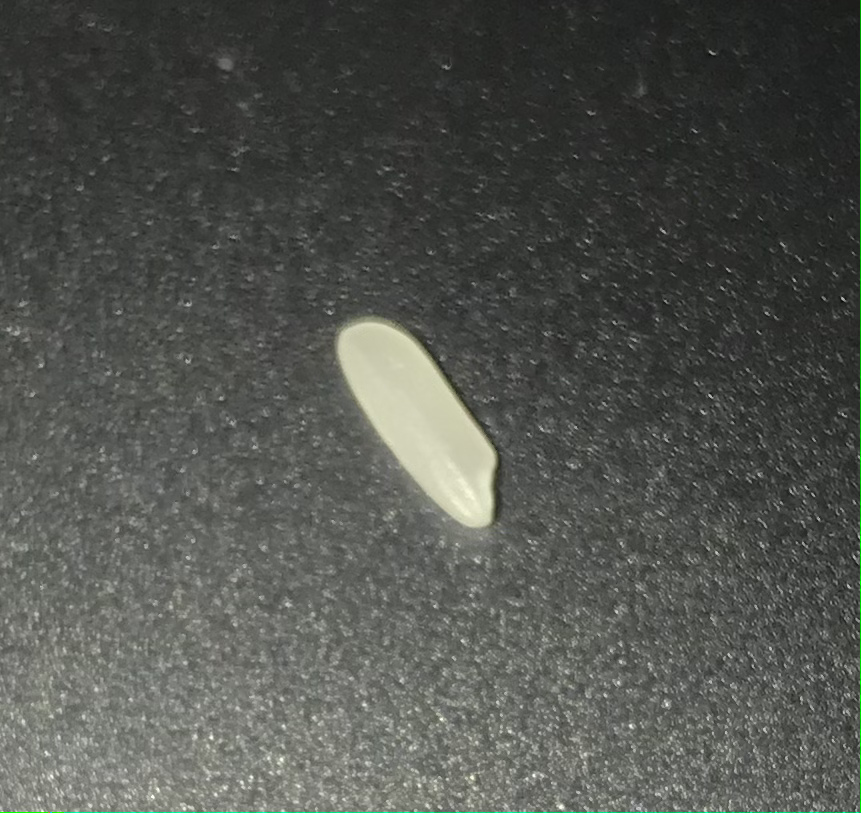Gao Thom My: (330, 304, 509, 553)
